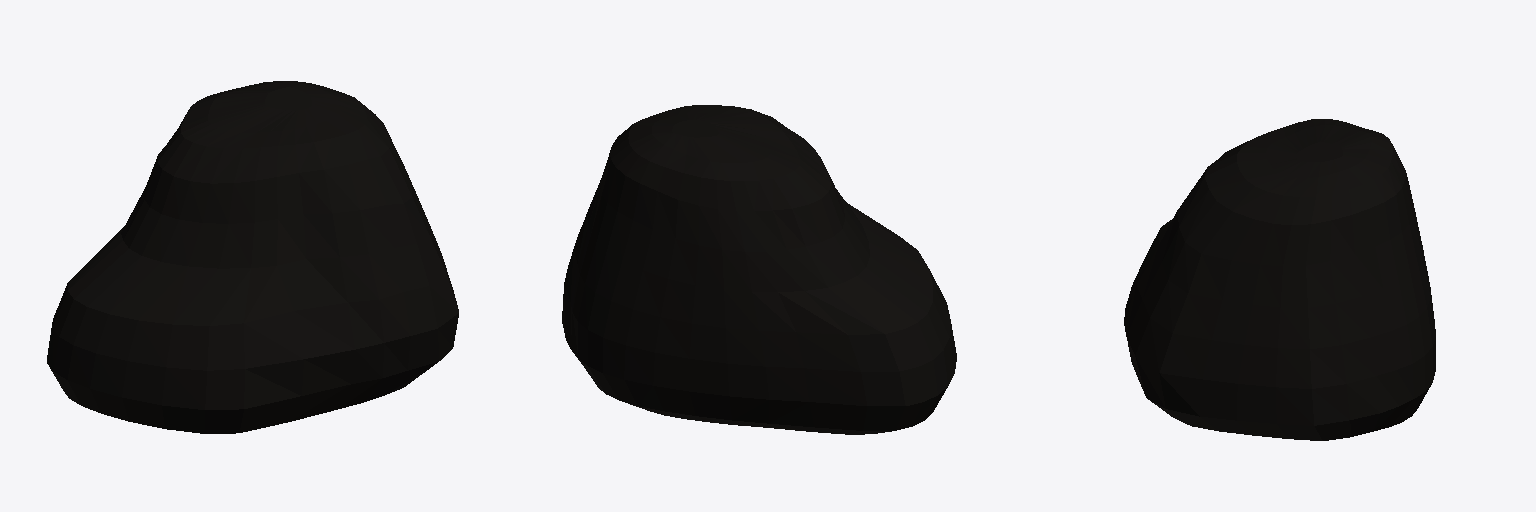
Rendered from boulder-1.obj.
3 renders of one model, left to right at view 1: azimuth 30°, elevation 25°; view 2: azimuth 150°, elevation 25°; view 3: azimuth 270°, elevation 25°, orthographic.
Parts seen in each view (by area): view 1: Boulder_Cylinder; view 2: Boulder_Cylinder; view 3: Boulder_Cylinder.
Boxes of the visible parts, <box> form: Boulder_Cylinder: <box>47,81,458,433</box>; Boulder_Cylinder: <box>562,105,956,434</box>; Boulder_Cylinder: <box>1124,119,1435,440</box>.
Bounding box in the file's own units: 1.28 × 0.8558 × 0.927.